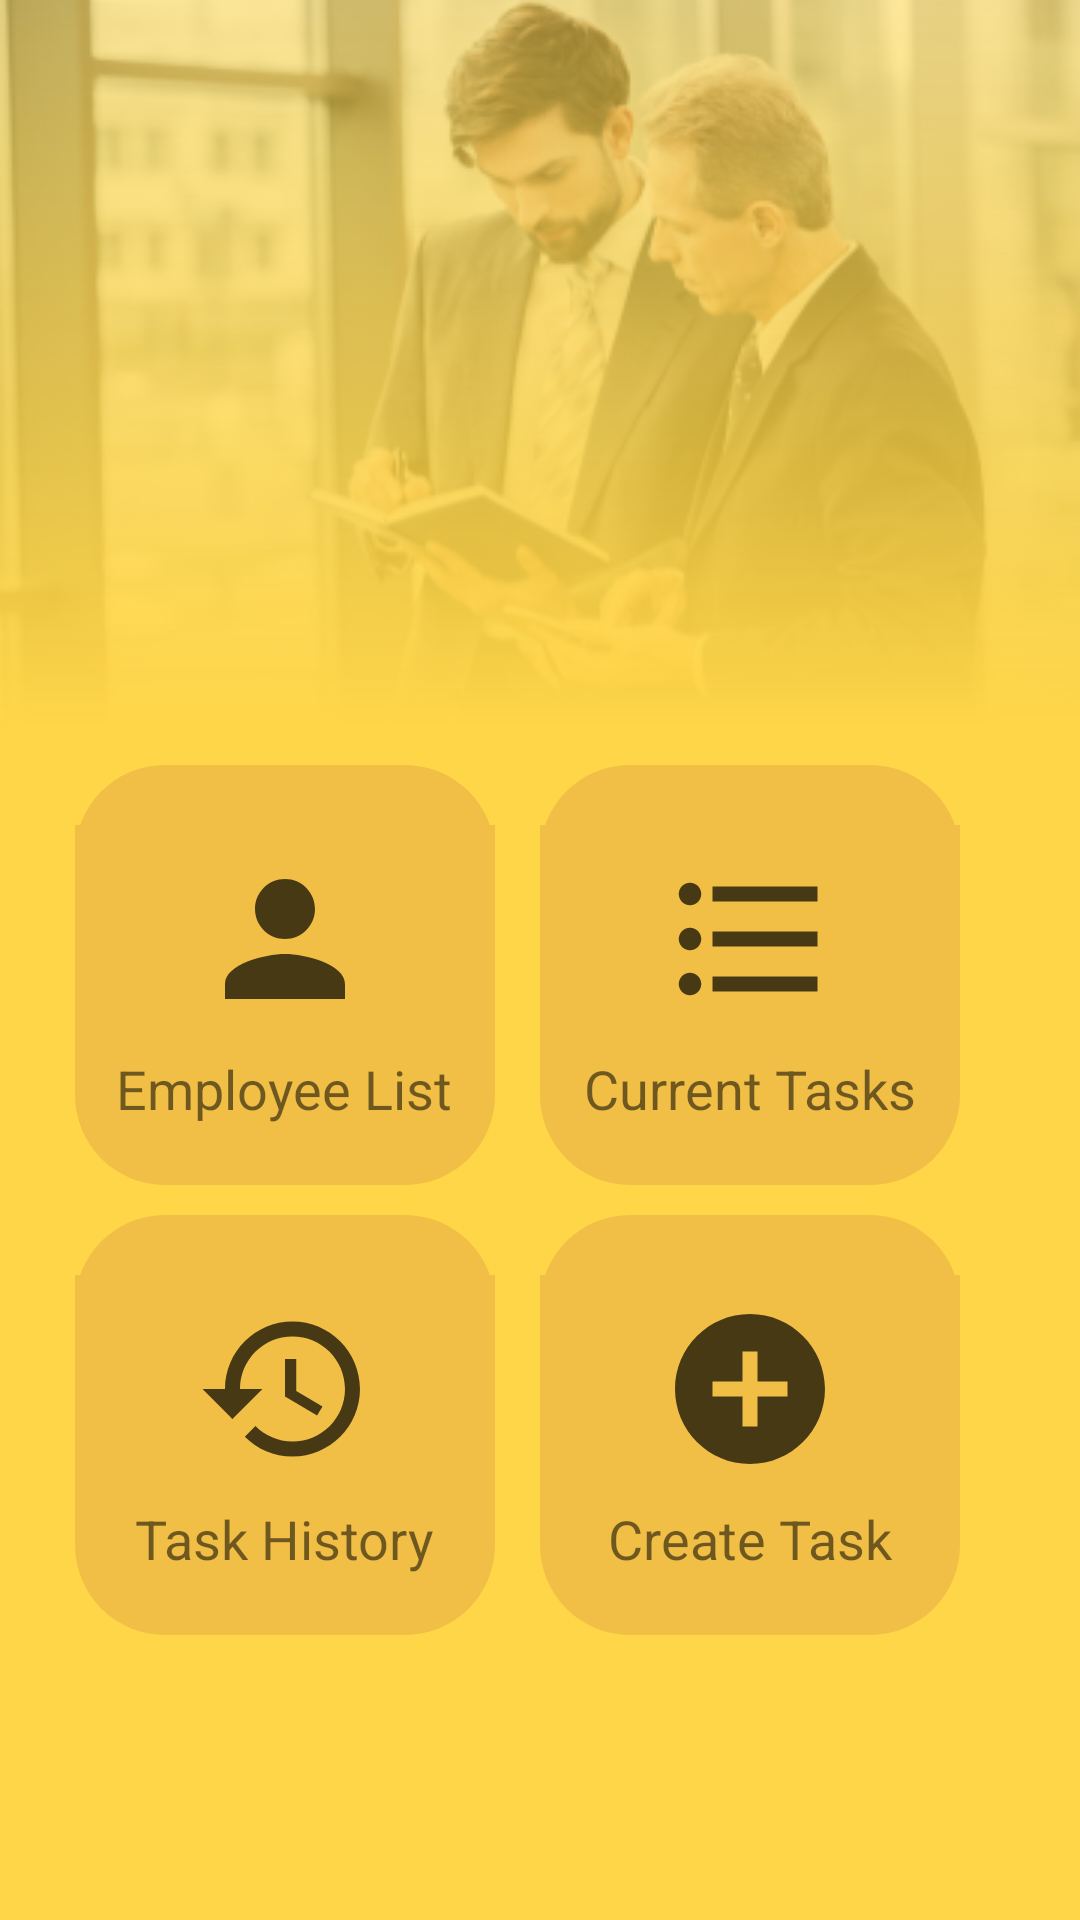

Named icons in this screenshot (1080*1920) and their bounding boxes, (x1, y1, x2, y2):
addtask: (675, 1314, 825, 1464)
